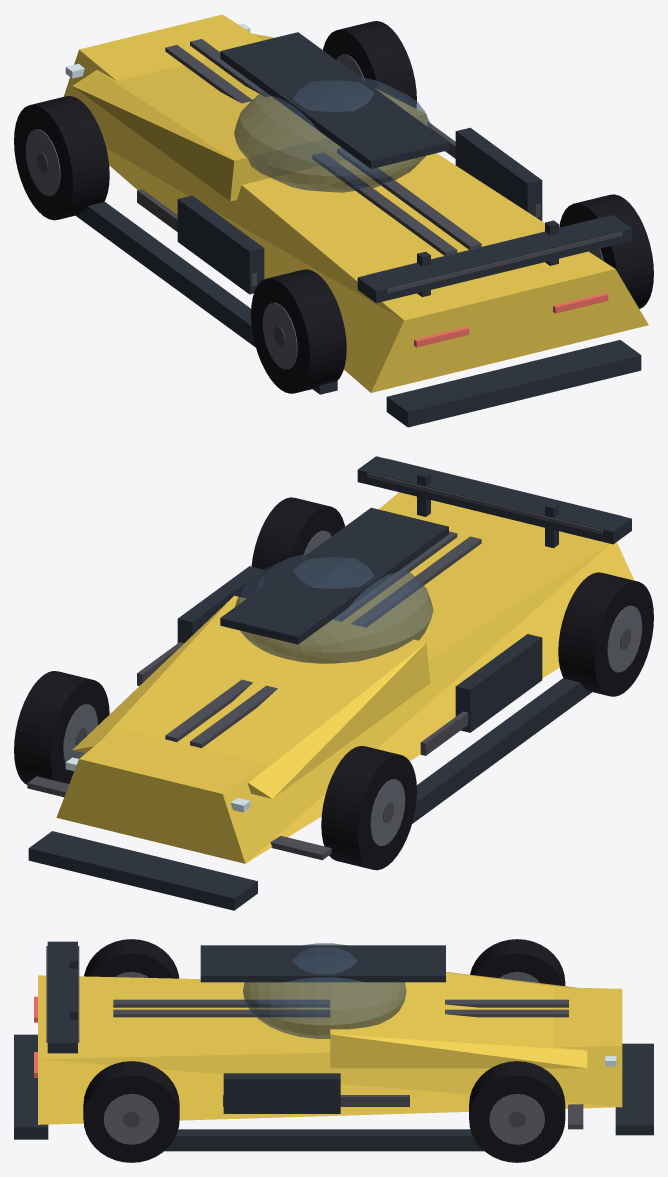
Rendered from stormer.glb.
The picture shows the model from 3 angles, top to bottom: view 1: azimuth 30°, elevation 25°; view 2: azimuth 150°, elevation 25°; view 3: azimuth 270°, elevation 25°; orthographic projection. The views are drawn at different scales.
Visible parts, largest first — view 1: body_chassis, hood_slope, carbon_roof_spine, dark_cockpit_canopy, rear_diffuser, left_rear_tire, left_front_tire, rear_spoiler_wing, left_side_skirt, left_side_intake, right_front_tire, right_rear_tire (+7 smaller); view 2: body_chassis, hood_slope, carbon_roof_spine, dark_cockpit_canopy, left_front_tire, left_rear_tire, front_splitter, rear_spoiler_wing, right_front_tire, left_side_skirt, left_side_intake, right_rear_tire (+9 smaller); view 3: body_chassis, hood_slope, carbon_roof_spine, dark_cockpit_canopy, right_side_skirt, right_front_tire, right_rear_tire, right_side_intake, rear_spoiler_wing, front_splitter, center_stripe_left, left_front_tire (+8 smaller).
Part boxes in pixels (x1,y1,x2,y2): body_chassis: [64, 14, 648, 392]; hood_slope: [73, 34, 427, 201]; carbon_roof_spine: [220, 32, 448, 168]; dark_cockpit_canopy: [234, 77, 432, 192]; rear_diffuser: [386, 340, 641, 427]; left_rear_tire: [251, 269, 346, 393]; left_front_tire: [14, 96, 109, 220]; rear_spoiler_wing: [357, 215, 631, 303]; left_side_skirt: [76, 201, 337, 394]; left_side_intake: [177, 195, 264, 294]; right_front_tire: [323, 21, 416, 108]; right_rear_tire: [559, 194, 653, 308]; body_chassis: [56, 492, 634, 863]; hood_slope: [73, 595, 430, 798]; carbon_roof_spine: [220, 507, 448, 644]; dark_cockpit_canopy: [235, 553, 433, 663]; left_front_tire: [321, 746, 416, 870]; left_rear_tire: [558, 572, 653, 696]; front_splitter: [28, 831, 257, 910]; rear_spoiler_wing: [357, 456, 631, 544]; right_front_tire: [14, 671, 109, 784]; left_side_skirt: [412, 678, 591, 823]; left_side_intake: [455, 634, 542, 732]; right_rear_tire: [251, 497, 344, 584]; body_chassis: [38, 975, 622, 1124]; hood_slope: [330, 972, 587, 1068]; carbon_roof_spine: [200, 945, 445, 982]; dark_cockpit_canopy: [243, 943, 406, 1038]; right_side_skirt: [164, 1129, 484, 1151]; right_front_tire: [469, 1061, 565, 1162]; right_rear_tire: [83, 1061, 179, 1162]; right_side_intake: [223, 1073, 340, 1113]; rear_spoiler_wing: [47, 941, 77, 1053]; front_splitter: [615, 1043, 653, 1135]; center_stripe_left: [113, 999, 568, 1007]; left_front_tire: [470, 939, 565, 985].
Size of the model in its own units: 2.37 by 1.1 by 4.65.
